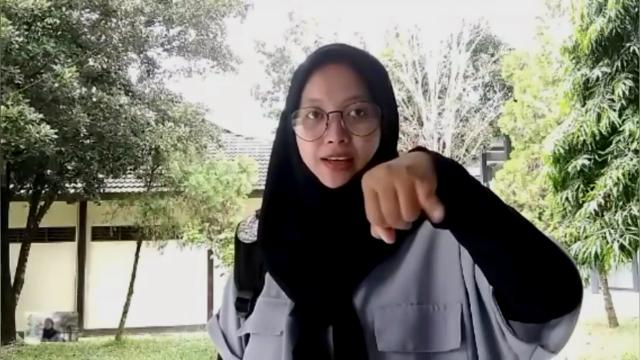J: (364, 144, 446, 254)
